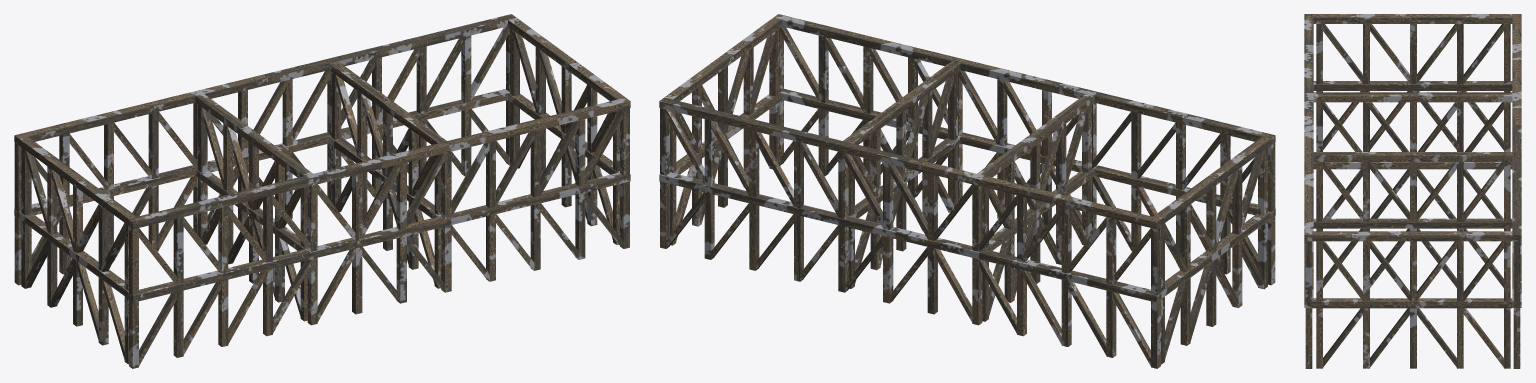
Rendered from Arctic_BridgeBottom_SM.fbx.
3 views of the same model, side by side, from view 1: azimuth 30°, elevation 25°; view 2: azimuth 150°, elevation 25°; view 3: azimuth 270°, elevation 25° (orthographic). The views are drawn at different scales.
Parts seen in each view (by area): view 1: Arctic_BridgeBottom_SM; view 2: Arctic_BridgeBottom_SM; view 3: Arctic_BridgeBottom_SM.
Part boxes in pixels (x1,y1,x2,y2): Arctic_BridgeBottom_SM: (14,14,630,368); Arctic_BridgeBottom_SM: (659,14,1275,368); Arctic_BridgeBottom_SM: (1304,14,1521,368).
Bounding box in the file's own units: 780 × 220 × 324.
